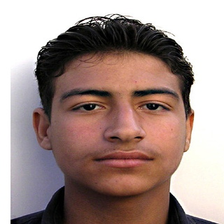no_mask: (53, 68, 178, 190)
